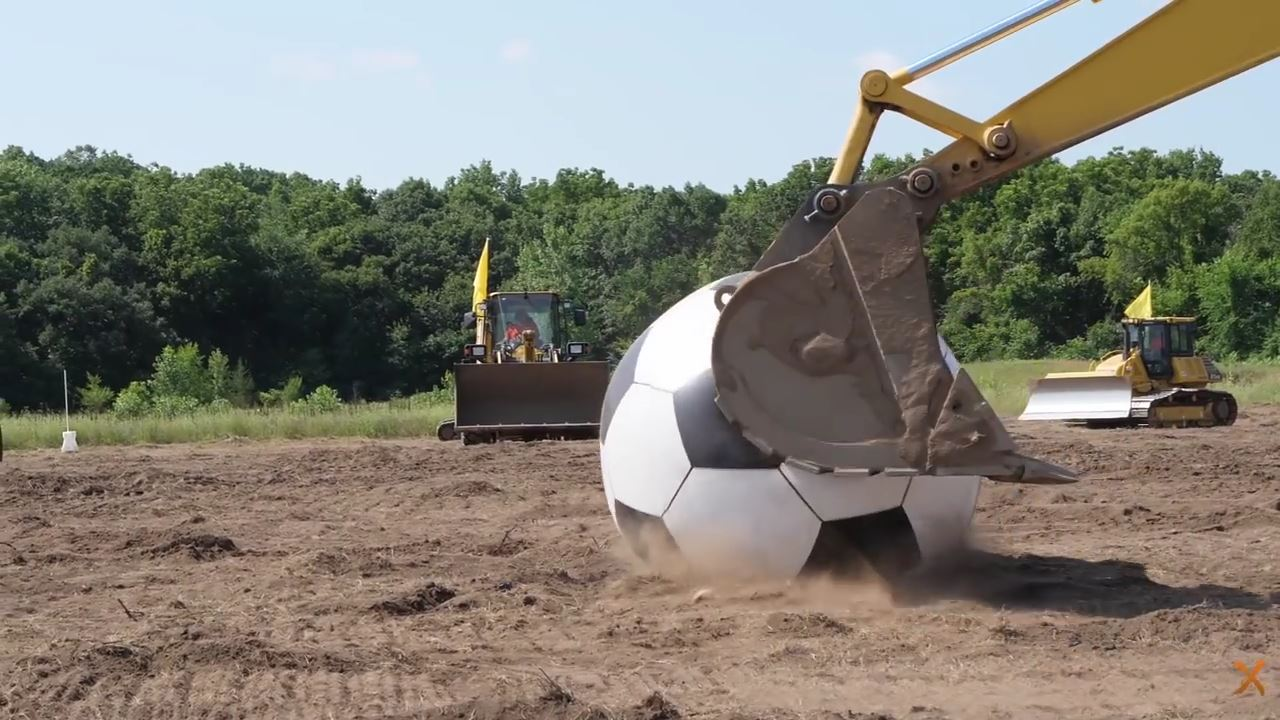con_eq: (709, 12, 1219, 476), (440, 286, 614, 448), (1019, 312, 1219, 429)
